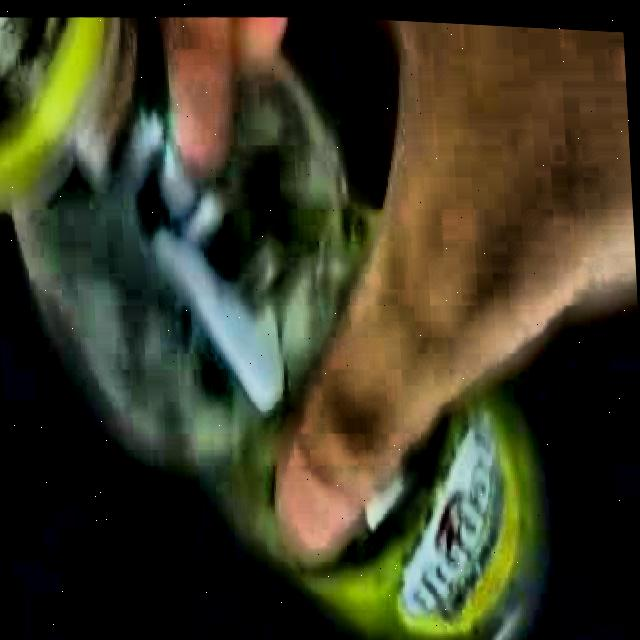plastic: (0, 15, 537, 640)
